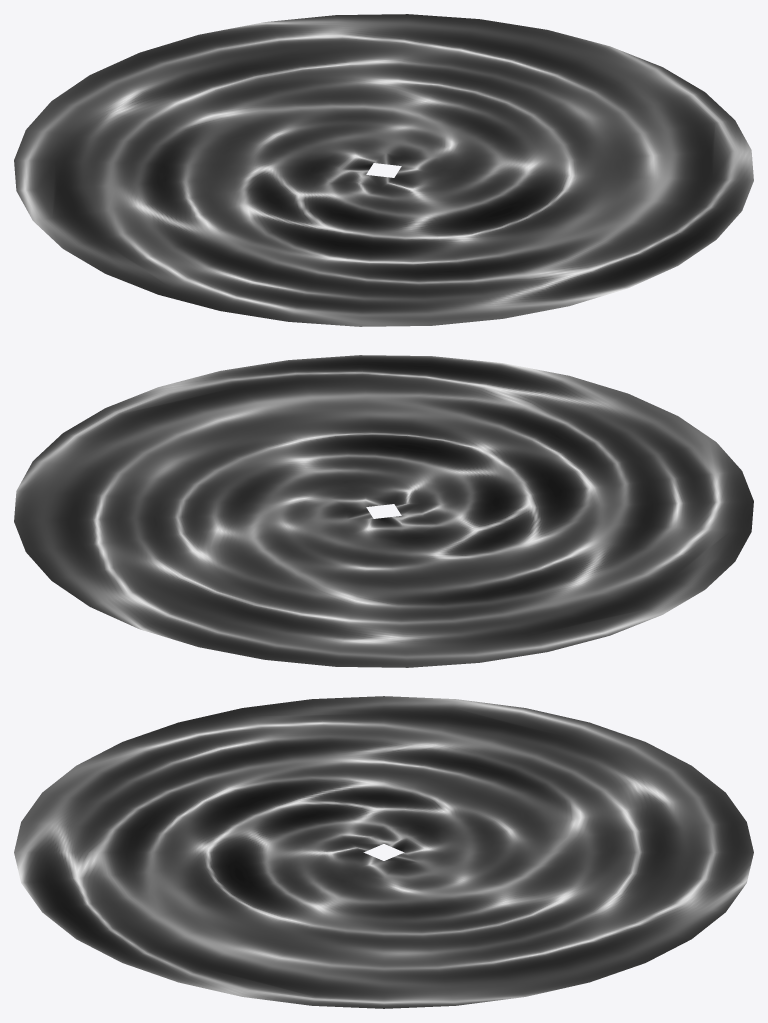
File: eff_Disc05.fbx
The picture shows the model from 3 angles, top to bottom: view 1: azimuth 30°, elevation 25°; view 2: azimuth 150°, elevation 25°; view 3: azimuth 270°, elevation 25°; orthographic projection.
Visible parts, largest first — view 1: eff_Disc05_msh; view 2: eff_Disc05_msh; view 3: eff_Disc05_msh.
Part boxes in pixels (x1=…): eff_Disc05_msh: x1=14, y1=14, x2=753, y2=326; eff_Disc05_msh: x1=14, y1=355, x2=753, y2=667; eff_Disc05_msh: x1=14, y1=696, x2=753, y2=1008.
Bounding box in the file's own units: 9 × 2.38e-07 × 9.
